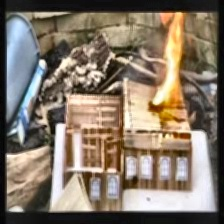fire: (140, 11, 189, 117)
